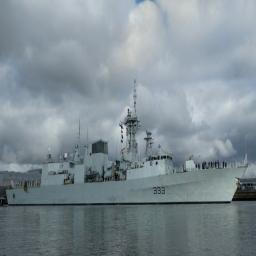Fragata: (5, 71, 250, 207)
